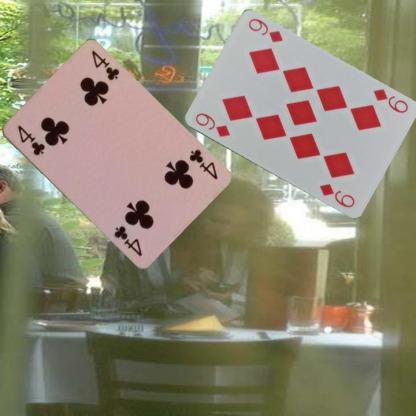4c: (186, 146, 219, 181), (14, 123, 46, 157)
9d: (192, 110, 231, 139), (370, 86, 409, 115)
